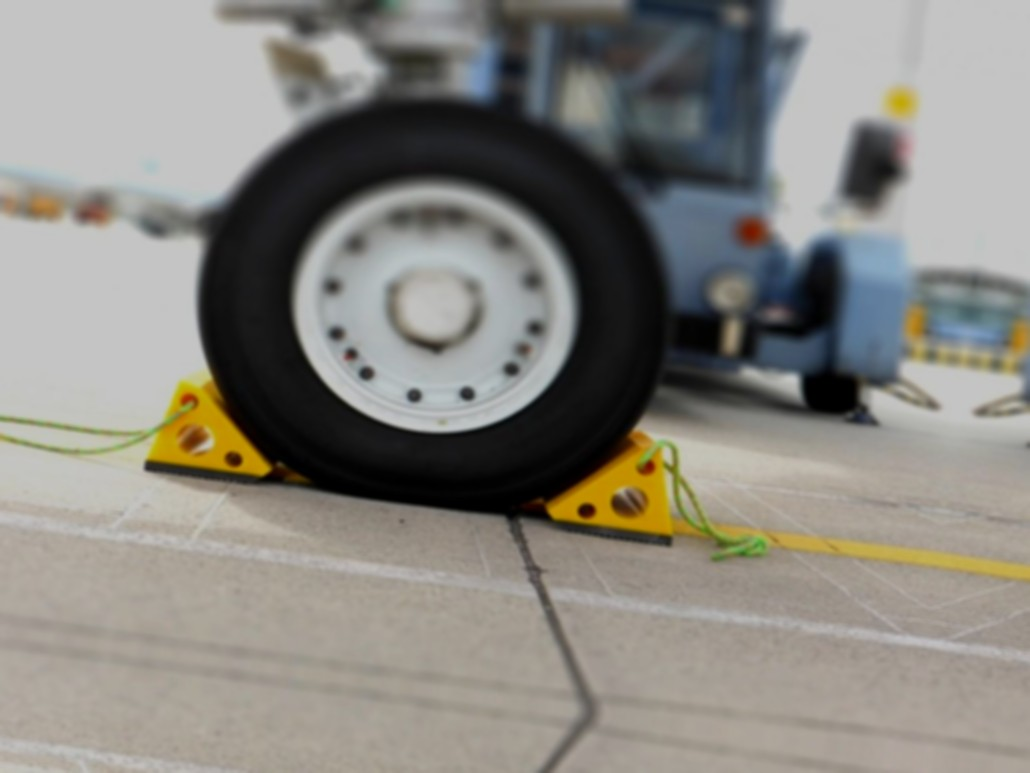chock: (531, 418, 691, 545), (141, 359, 295, 489)
wheel: (177, 72, 687, 534), (799, 369, 863, 416)
